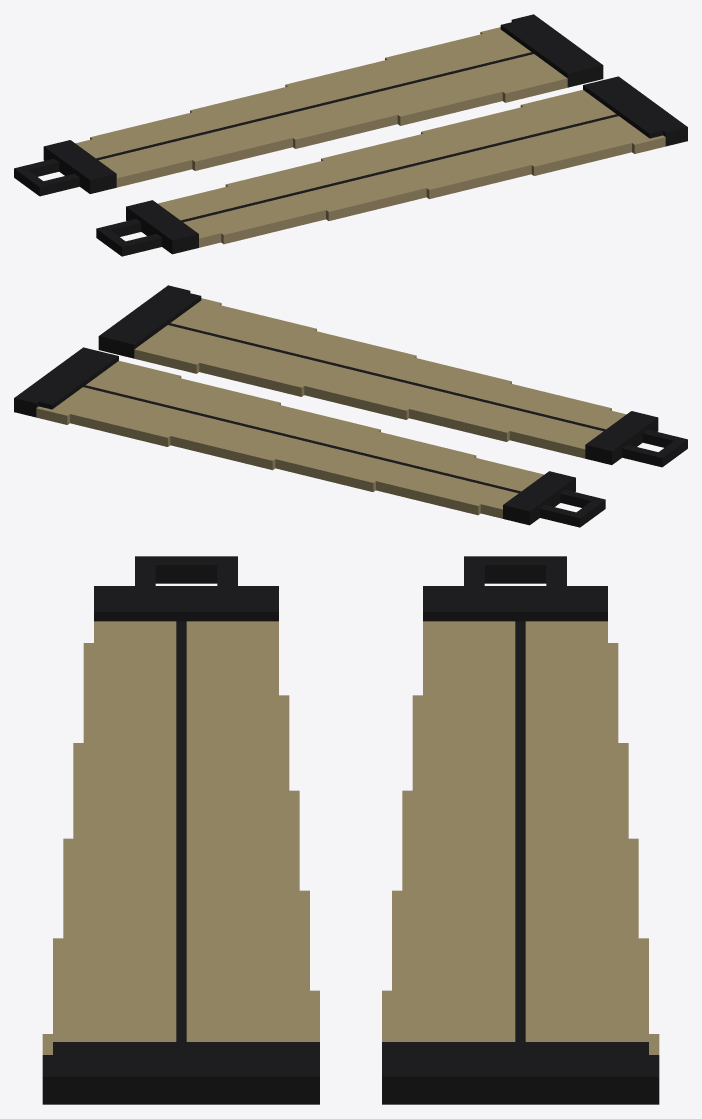
Rendered from armguard_cut_resistant.glb.
The picture shows the model from 3 angles, top to bottom: view 1: azimuth 30°, elevation 25°; view 2: azimuth 150°, elevation 25°; view 3: azimuth 270°, elevation 25°; orthographic projection. The views are drawn at different scales.
Visible parts, largest first — view 1: armguard_cut_resistant:compound; view 2: armguard_cut_resistant:compound; view 3: armguard_cut_resistant:compound.
Boxes of the visible parts, x1,y1,x2,y2 form: armguard_cut_resistant:compound: (14,14,687,256); armguard_cut_resistant:compound: (14,285,687,527); armguard_cut_resistant:compound: (42,556,659,1104).
Bounding box in the file's own units: 0.488 × 0.012 × 0.24.
